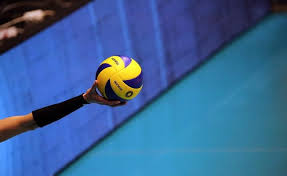ball: (94, 54, 144, 103)
